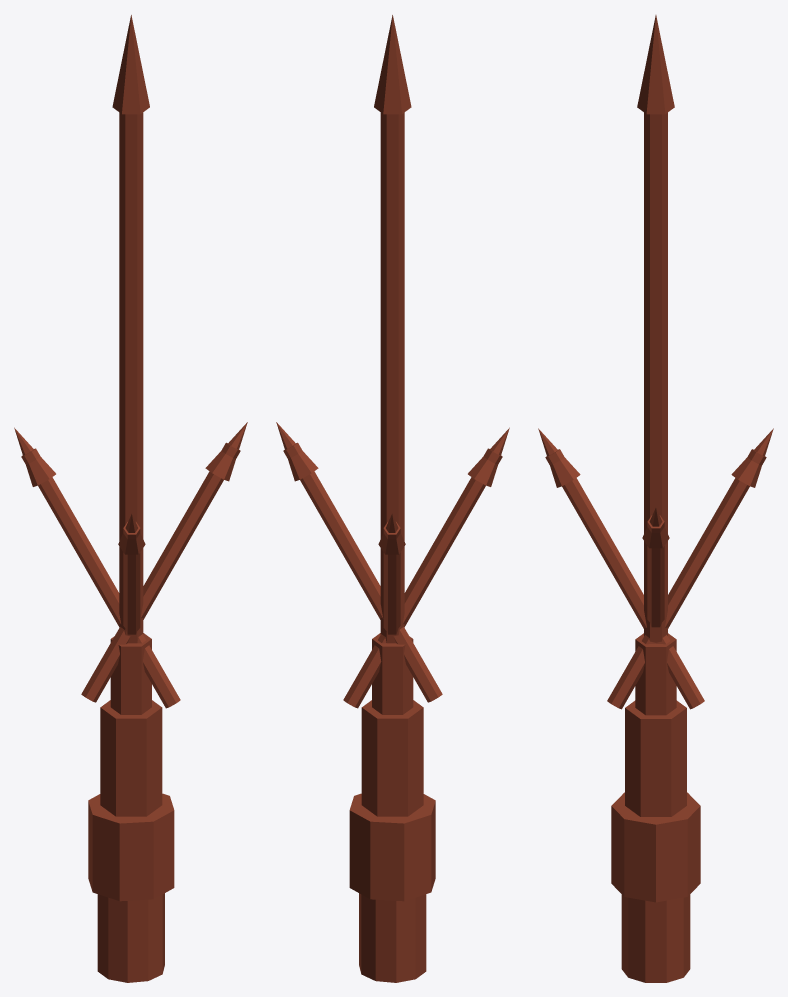
Rendered from Pararayos.fbx.
The picture shows the model from 3 angles, left to right: view 1: azimuth 30°, elevation 25°; view 2: azimuth 150°, elevation 25°; view 3: azimuth 270°, elevation 25°; orthographic projection.
Parts seen in each view (by area): view 1: Pararrayos_Sencillo; view 2: Pararrayos_Sencillo; view 3: Pararrayos_Sencillo.
Part boxes in pixels (x1=…): Pararrayos_Sencillo: x1=14, y1=15, x2=247, y2=982; Pararrayos_Sencillo: x1=276, y1=15, x2=509, y2=982; Pararrayos_Sencillo: x1=538, y1=15, x2=773, y2=982.
Size of the model in its own units: 58.88 by 307 by 68.67.
1 material, 1 textured.
